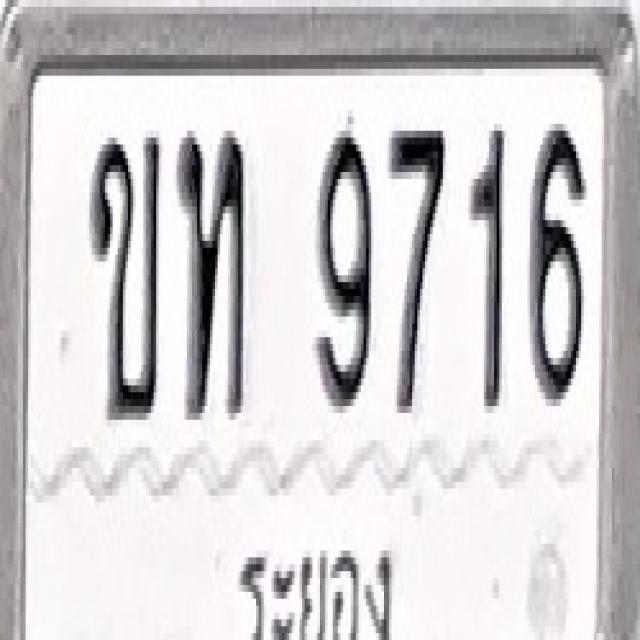-: (88, 131, 160, 420), (177, 128, 246, 416)
1: (468, 124, 504, 413)
6: (529, 120, 585, 402)
7: (386, 124, 446, 413)
9: (315, 128, 371, 410)
RYG: (228, 525, 406, 640)
